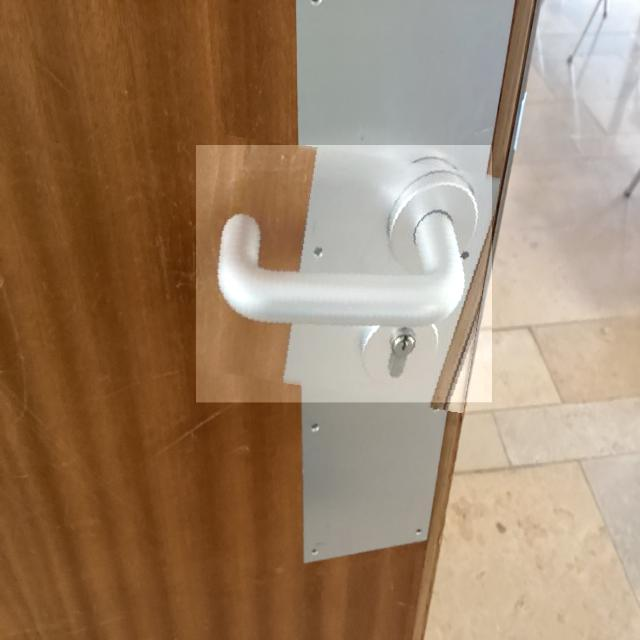doorhandle: (196, 146, 492, 404)
